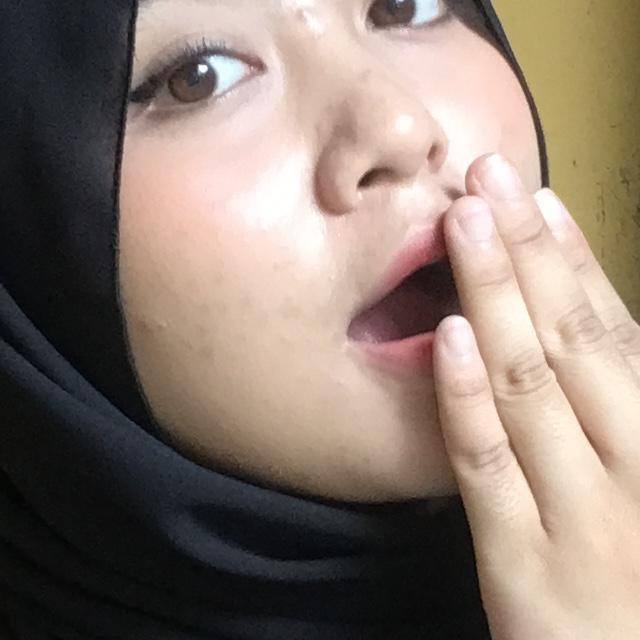ngantuk: (320, 126, 640, 640)
